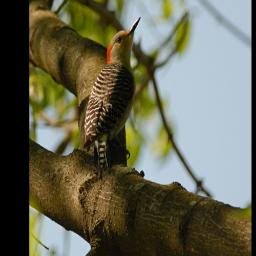Woodpecker: (84, 17, 141, 179)
